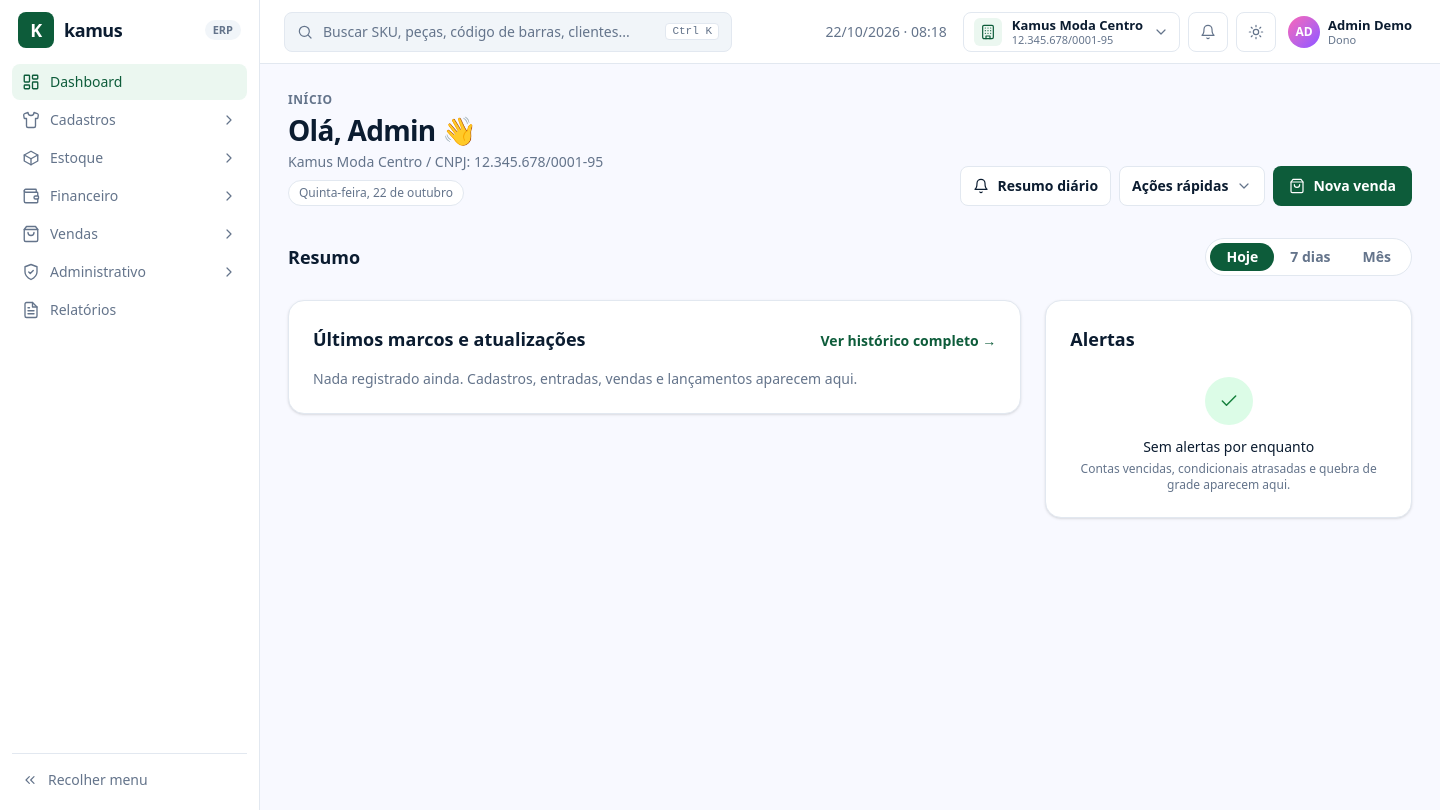
Test case: Shell › seletor de empresa troca o CNPJ ativo e envia o header para a API
expect the heading "Olá, Admin 👋" is shown: met, box [288, 111, 476, 149]
Click the button with aria-label "Empresa ativa": (1071, 32) [963, 12, 1180, 52]
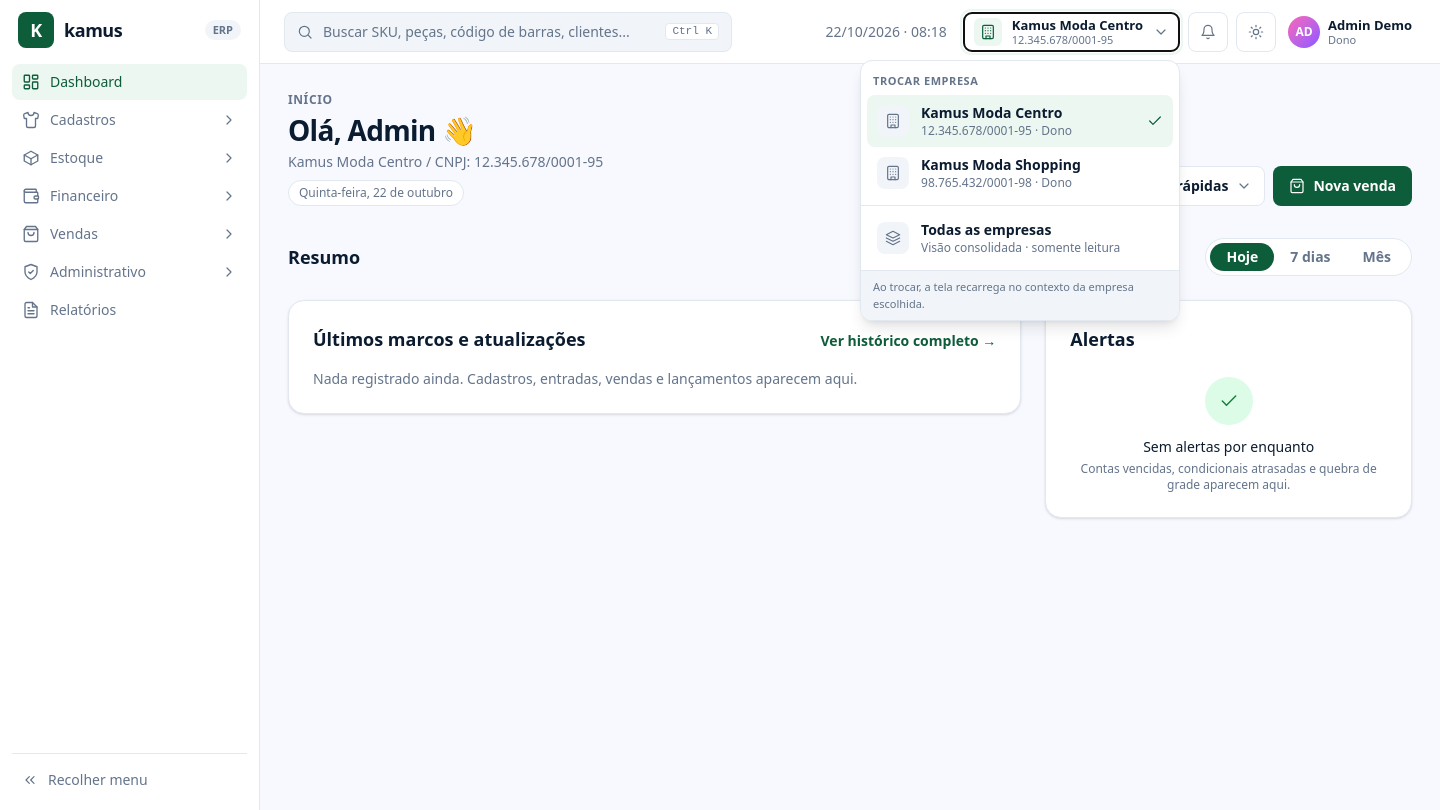
expect the text "Todas as empresas" is shown: met, box [921, 220, 1051, 239]
Click the menu item "Kamus Moda Shopping 98.765.432/0001-98 · Dono": (1020, 173) [867, 147, 1173, 199]
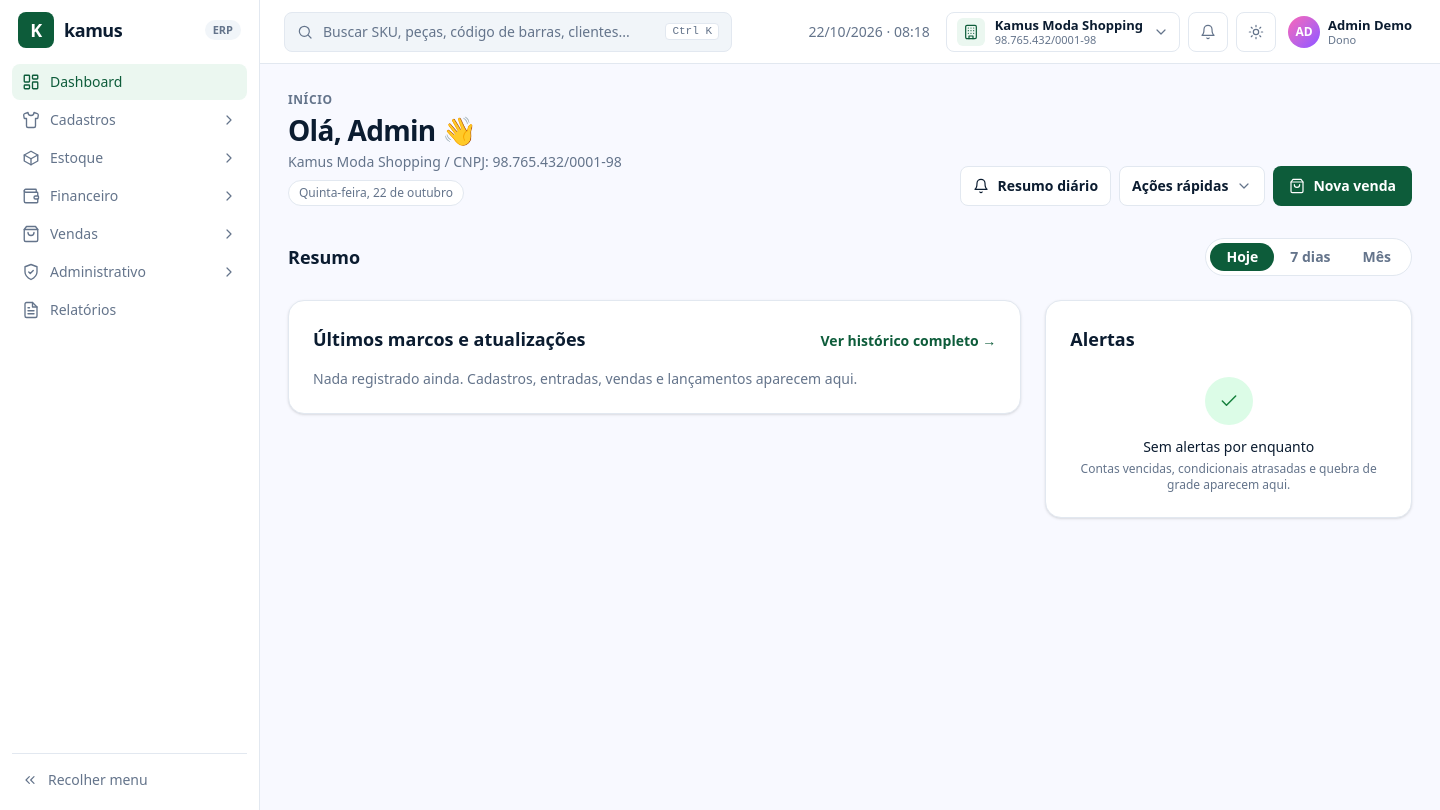
expect the button with aria-label "Empresa ativa" shows "Kamus Moda Shopping": met, box [946, 12, 1180, 52]
expect the text "Kamus Moda Shopping / CNPJ: 98.765.432/0001-98" is shown: met, box [288, 152, 622, 172]
